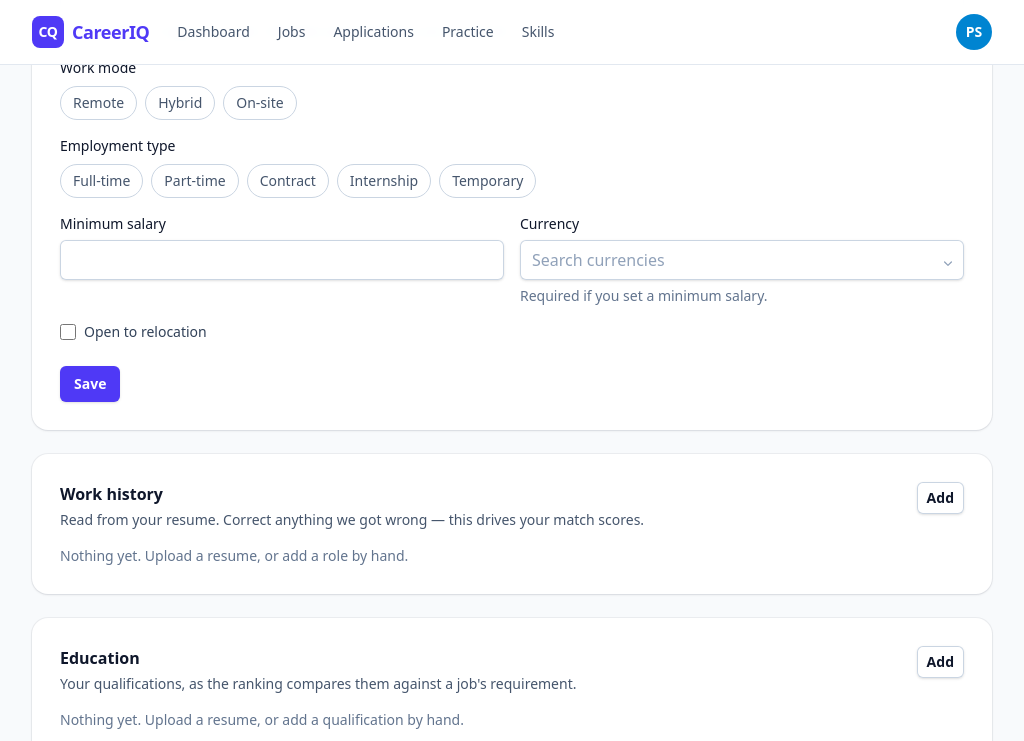
Scenario: ProfilePage › required fields › names every empty preference from one press
The width and height of the screenshot is (1024, 741).
(page scrolled)
Click the button "Save": (90, 384) [60, 366, 120, 402]
(page scrolled)
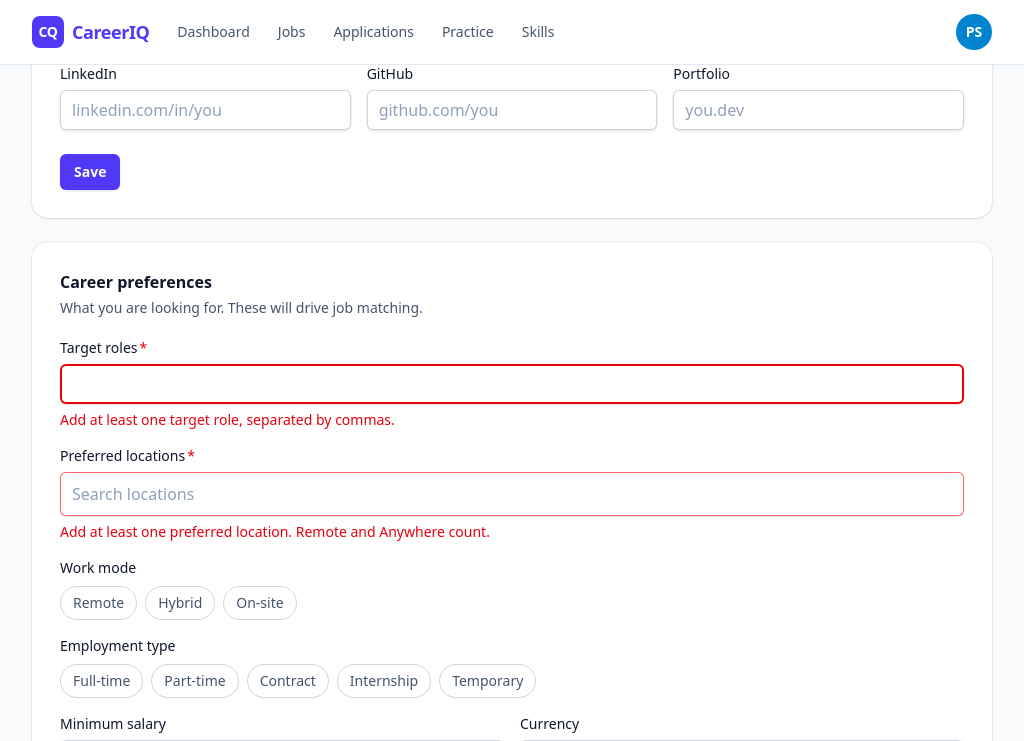
Expected: the text "Add at least one target role, separated by commas." is shown, [60, 410, 395, 429]
Expected: the text "Add at least one preferred location. Remote and Anywhere count." is shown, [60, 522, 490, 541]
